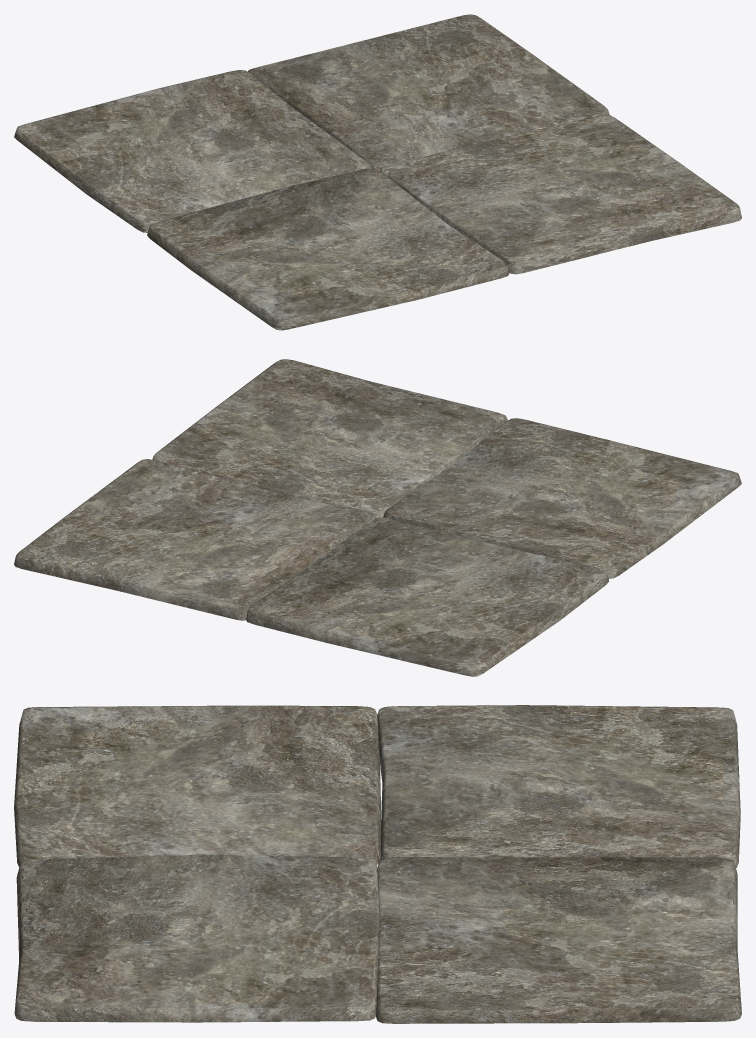
File: Stone_Slates_Group.FBX
3 renders of one model, top to bottom at view 1: azimuth 30°, elevation 25°; view 2: azimuth 150°, elevation 25°; view 3: azimuth 270°, elevation 25°, orthographic. The views are drawn at different scales.
Parts seen in each view (by area): view 1: Stone_Slate_B002, Stone_Slate_B003, Stone_Slate_B001, Stone_Slate_B; view 2: Stone_Slate_B001, Stone_Slate_B, Stone_Slate_B002, Stone_Slate_B003; view 3: Stone_Slate_B, Stone_Slate_B003, Stone_Slate_B002, Stone_Slate_B001.
Boxes of the visible parts, x1,y1,x2,y2 form: Stone_Slate_B002: (147,168,509,330); Stone_Slate_B003: (380,114,741,274); Stone_Slate_B001: (14,70,371,232); Stone_Slate_B: (248,14,609,170); Stone_Slate_B001: (246,517,608,676); Stone_Slate_B: (14,459,376,620); Stone_Slate_B002: (383,418,741,578); Stone_Slate_B003: (152,359,507,517); Stone_Slate_B: (376,857,741,1023); Stone_Slate_B003: (14,854,379,1022); Stone_Slate_B002: (14,705,380,866); Stone_Slate_B001: (377,705,740,867).
Bounding box in the file's own units: 404 × 10.47 × 404.
